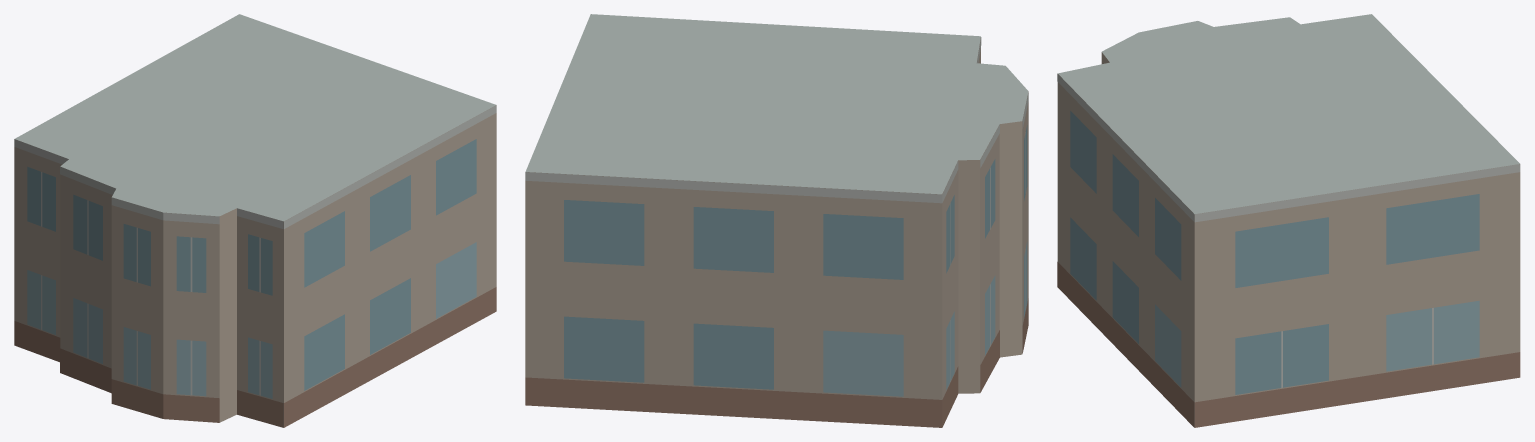
Rendered from survey-upis-32603925.glb.
3 views of the same model, side by side, from view 1: azimuth 30°, elevation 25°; view 2: azimuth 150°, elevation 25°; view 3: azimuth 270°, elevation 25° (orthographic). The views are drawn at different scales.
Visible parts, largest first — view 1: survey-upis-32603925.tmp; view 2: survey-upis-32603925.tmp; view 3: survey-upis-32603925.tmp.
Part boxes in pixels (x1,y1,x2,y2): survey-upis-32603925.tmp: [14, 14, 496, 427]; survey-upis-32603925.tmp: [525, 14, 1028, 427]; survey-upis-32603925.tmp: [1057, 14, 1520, 427].
Size of the model in its own units: 12.87 by 6.4 by 12.58.
